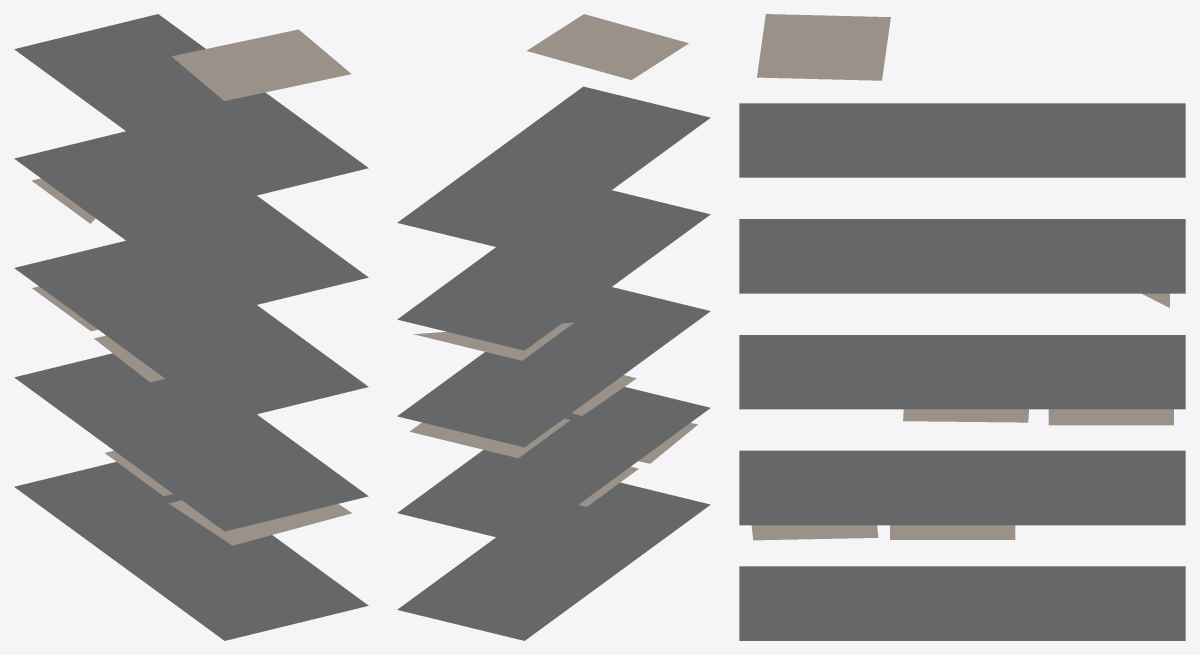
Rendered from warehouse-rack.lod2.glb.
3 renders of one model, left to right at view 1: azimuth 30°, elevation 25°; view 2: azimuth 150°, elevation 25°; view 3: azimuth 270°, elevation 25°, orthographic. The views are drawn at different scales.
Visible parts, largest first — view 1: Material2; view 2: Material2; view 3: Material2.
Part boxes in pixels (<box>): Material2: <box>14,14,368,640</box>; Material2: <box>397,14,710,640</box>; Material2: <box>739,14,1185,640</box>.
Bounding box in the file's own units: 0.6463 × 2.26 × 1.63.
